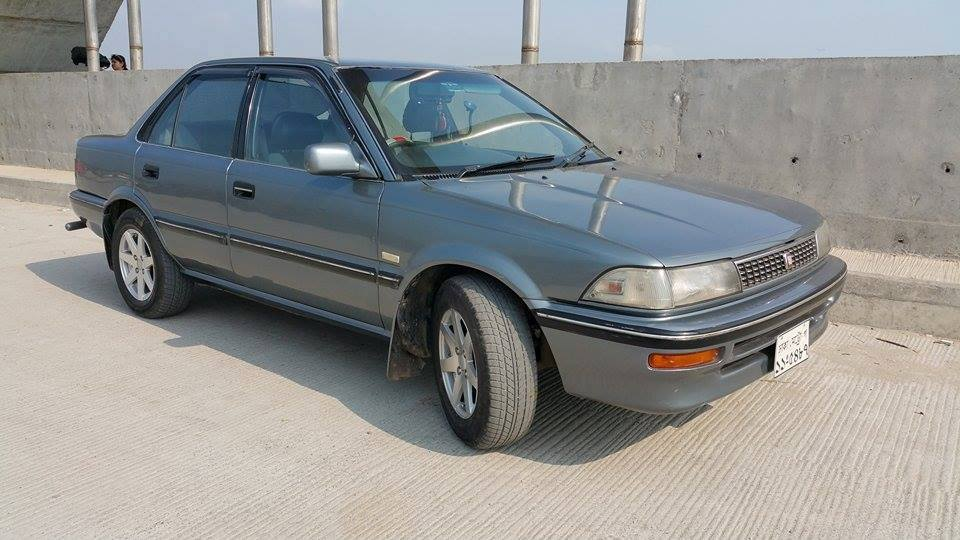registration_plate: (774, 318, 809, 378)
